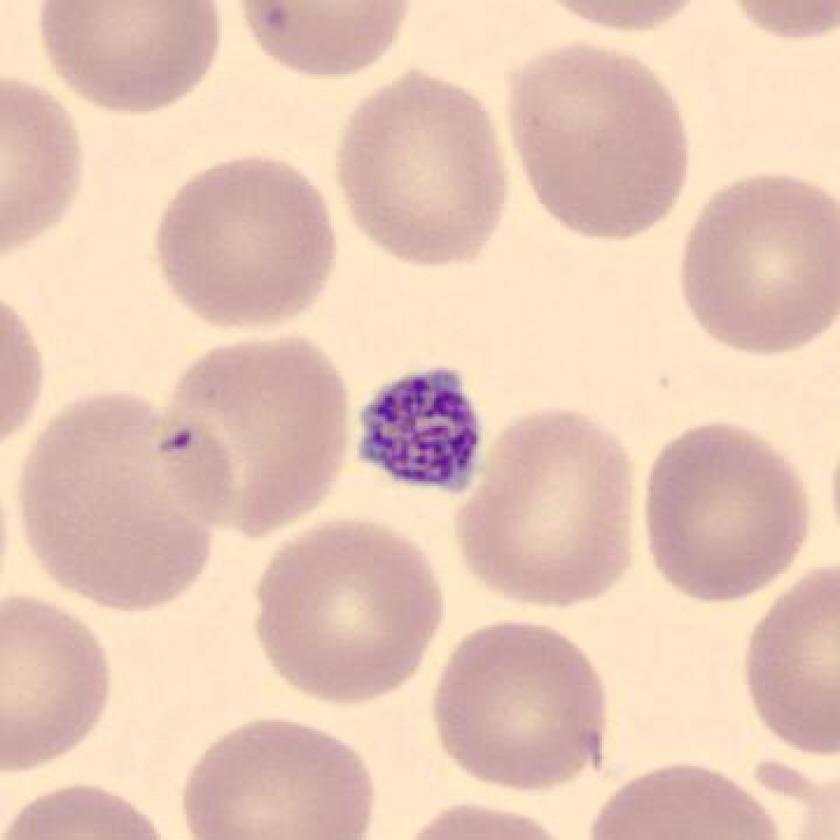platelets: (351, 357, 496, 508)
